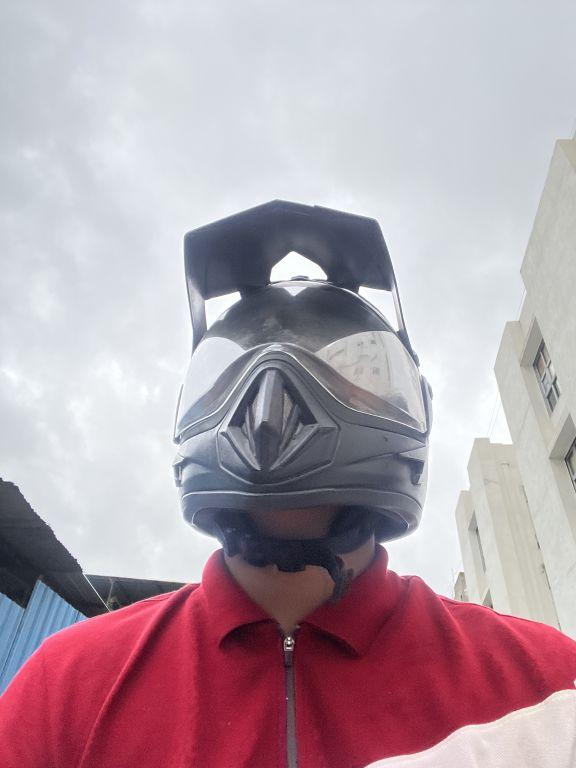helmet: (152, 172, 454, 606)
